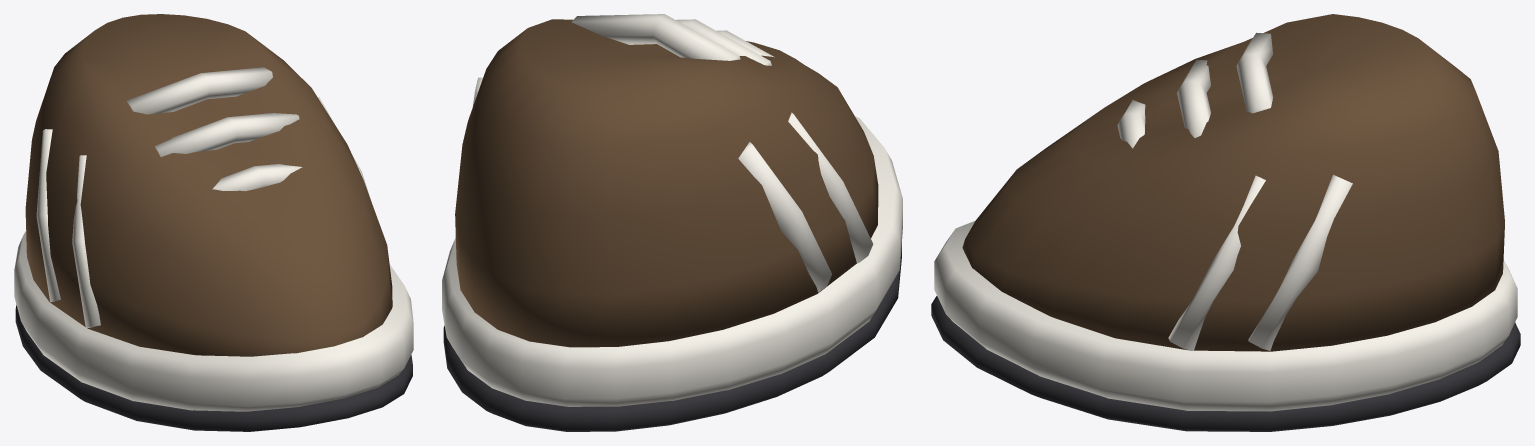
Rendered from calzado_zapatillas.glb.
3 renders of one model, left to right at view 1: azimuth 30°, elevation 25°; view 2: azimuth 150°, elevation 25°; view 3: azimuth 270°, elevation 25°, orthographic. The views are drawn at different scales.
Parts seen in each view (by area): view 1: pieza; view 2: pieza; view 3: pieza.
Boxes of the visible parts, x1,y1,x2,y2 form: pieza: [14, 14, 413, 431]; pieza: [442, 14, 902, 431]; pieza: [931, 14, 1520, 431].
Size of the model in its own units: 0.2698 by 0.2207 by 0.396.
